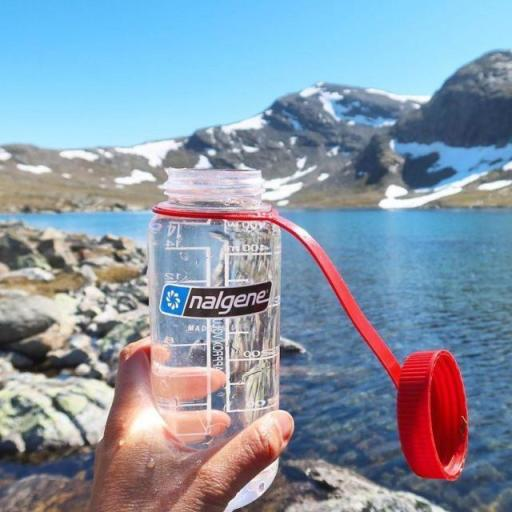bottle: (148, 168, 469, 479)
